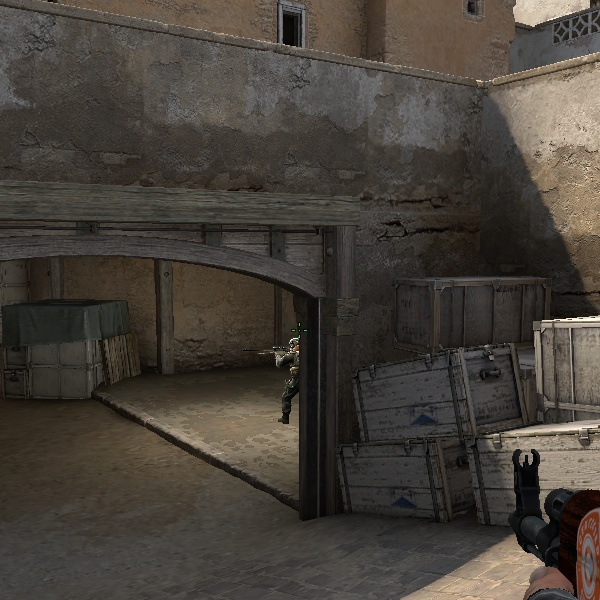ct_body: (271, 335, 302, 427)
